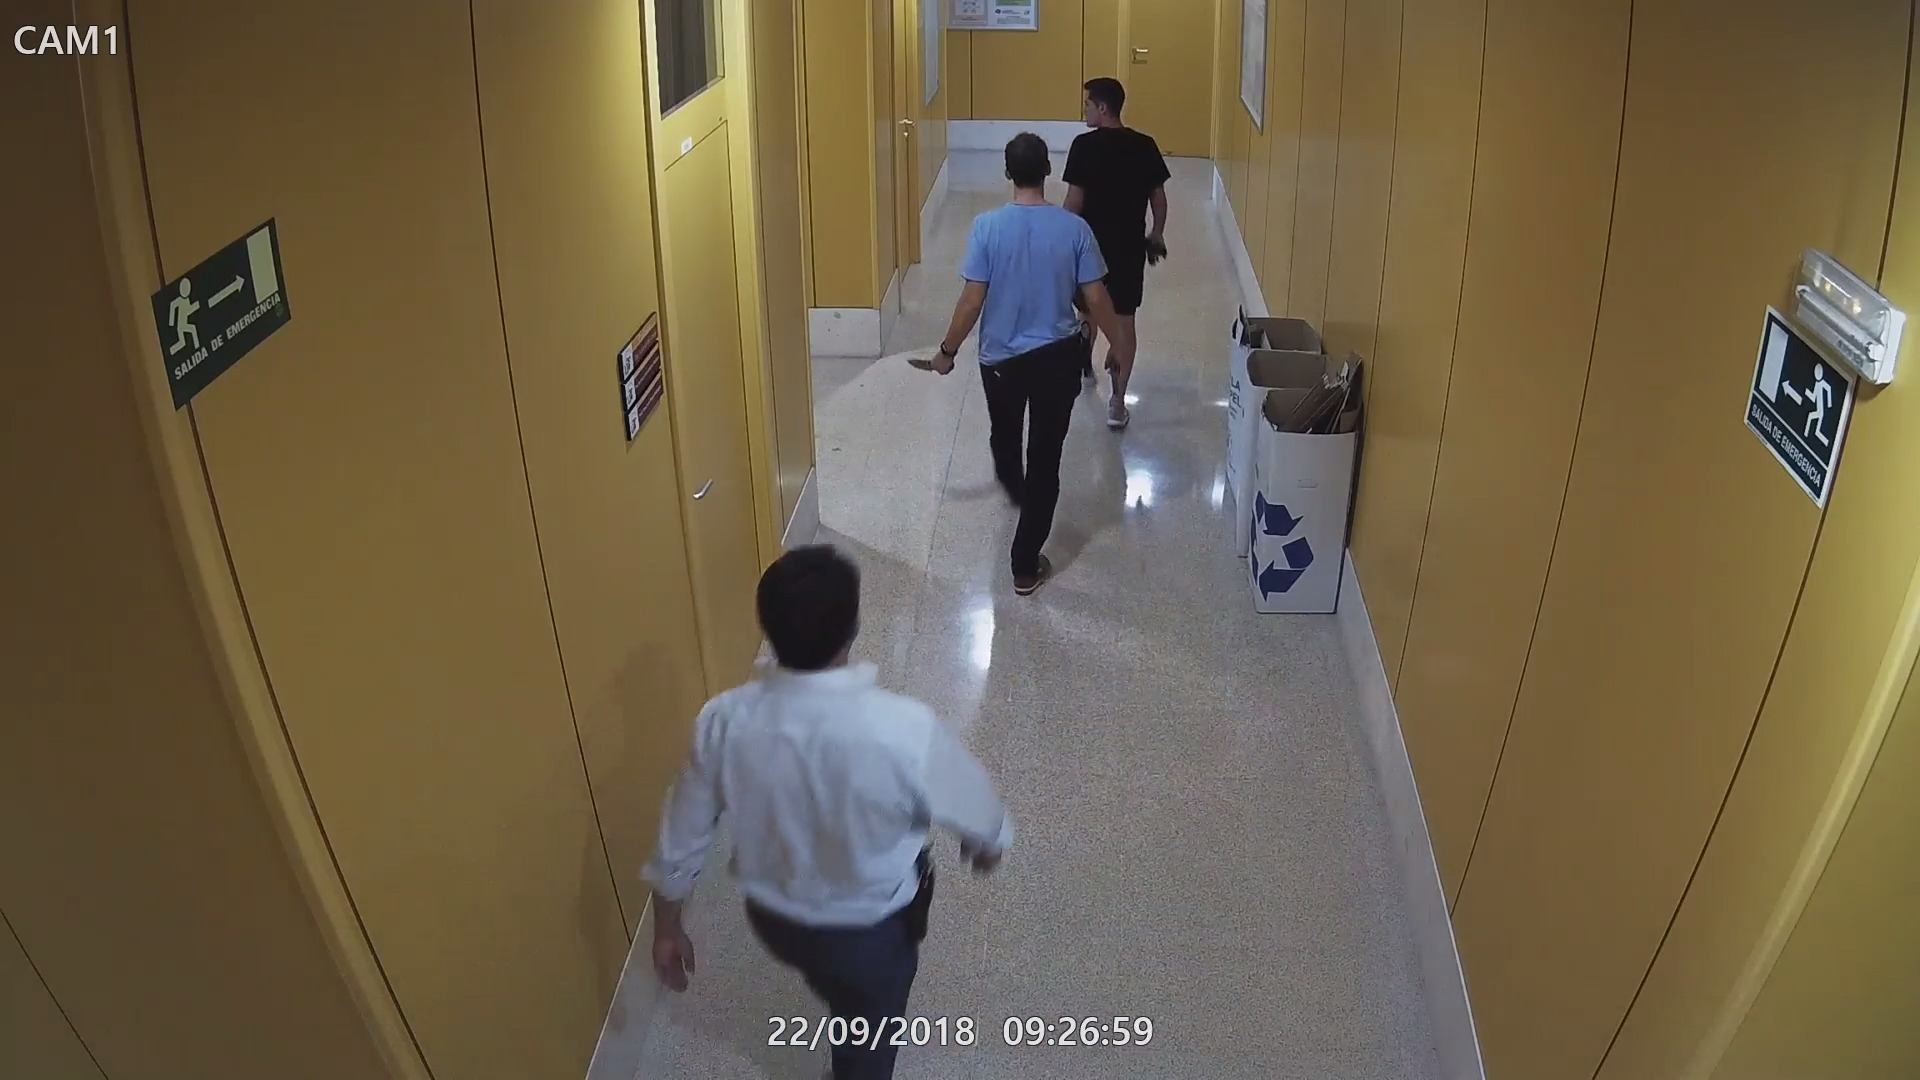knife: (905, 352, 957, 378)
pistol: (1143, 228, 1172, 272)
